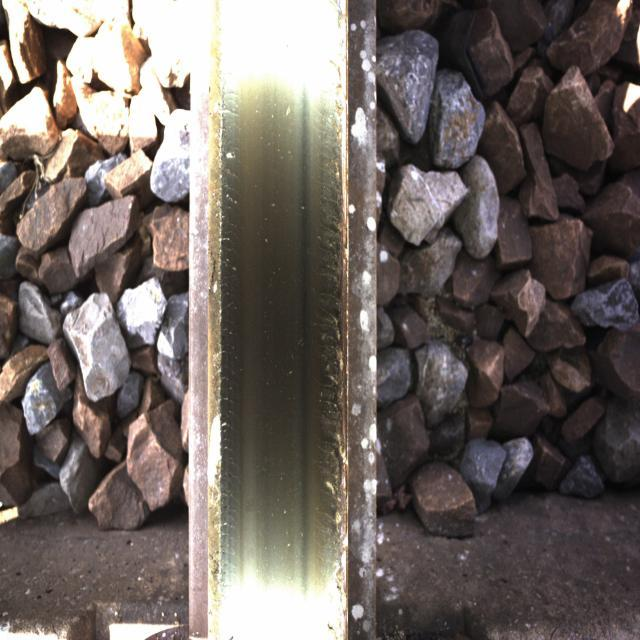normal: (221, 44, 350, 586)
